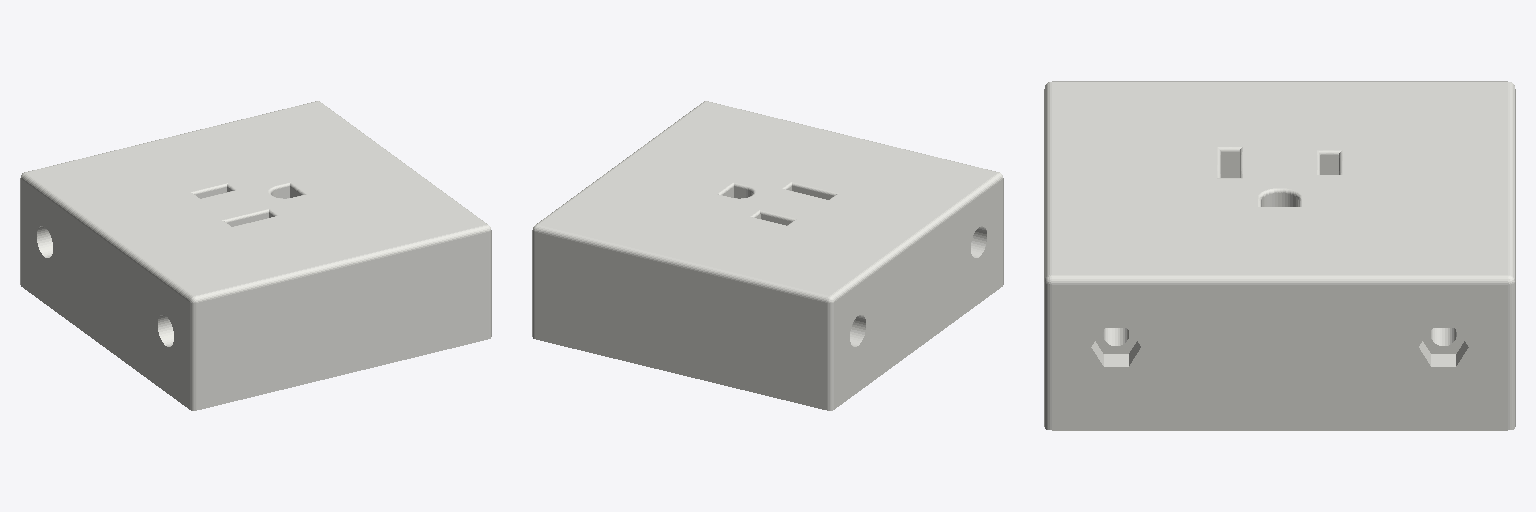
URDF robot description (cb_outlet):
<?xml version="1.0"?>
<!-- ContactBench outlet. Generated by FoundationTouch tools/contactbench/make_contactbench_assets.py -->
<robot name="cb_outlet">
  <material name="c"><color rgba="0.92 0.92 0.90 1.0"/></material>
  <link name="receptive">
    <visual><origin xyz="0 0 0" rpy="0 0 0"/><geometry><mesh filename="outlet.obj" scale="1 1 1"/></geometry><material name="c"/></visual>
    <collision><origin xyz="0 0 0" rpy="0 0 0"/><geometry><mesh filename="outlet.obj" scale="1 1 1"/></geometry><sdf resolution="256"/></collision>
  </link>
</robot>

--- Render facts (derived) ---
Views: 3 orthographic renders of the robot side by side, from view 1: azimuth 30°, elevation 25°; view 2: azimuth 150°, elevation 25°; view 3: azimuth 270°, elevation 25°.
Model cb_outlet with 1 links and 0 joints (none), rooted at receptive, posed every joint at zero.
Visible links, largest first — view 1: receptive; view 2: receptive; view 3: receptive.
Link boxes in pixels (x1,y1,x2,y2): receptive: (20, 101, 491, 410); receptive: (532, 101, 1003, 410); receptive: (1044, 81, 1515, 430).
Size in the robot's own frame: 0.063 by 0.063 by 0.0225 metres.
Meshes: 1 distinct files referenced, 1 mesh visuals loaded (1 OBJ).
